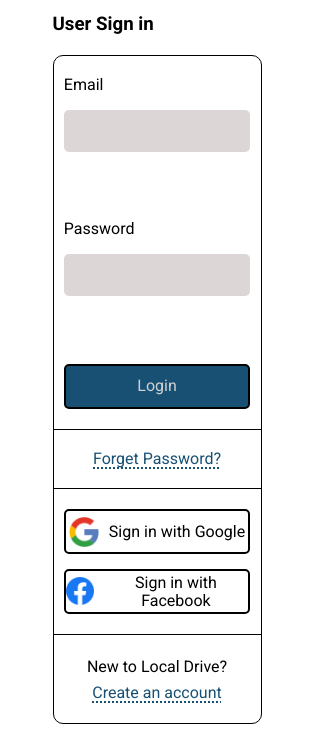
Login component › should render an error messages if email not confirmed error occurs after submission
Step 1. Type "email@email.com" into the field labelled "Email" → (157, 131), box [64,110,250,152]
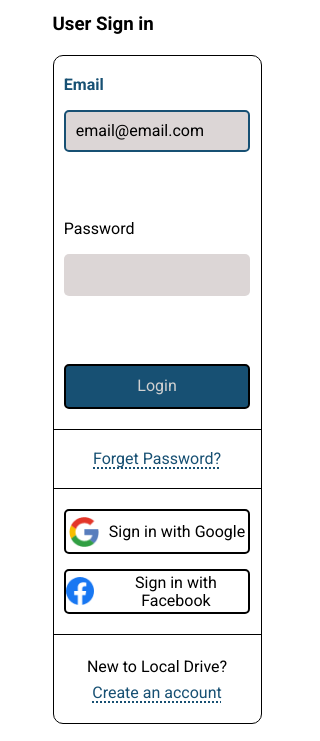
Step 2. Type "1!Qwerty" into the password field labelled "Password" → (157, 275), box [64,254,250,296]
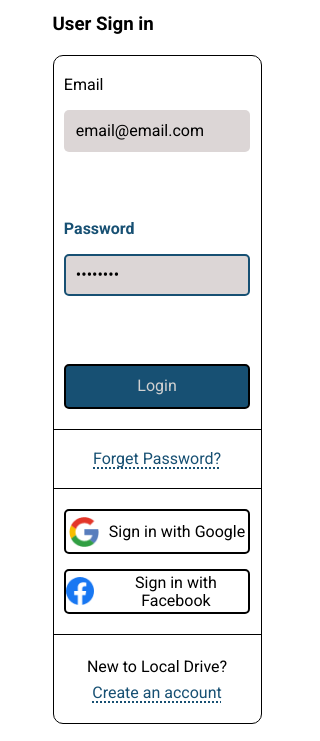
Step 3. Click the button "Login" → click(157, 386), box [64,364,250,409]
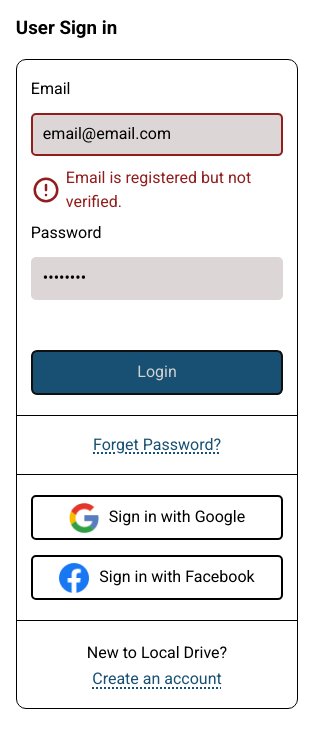
Expected: the text "Email is registered but not verified." is shown, [66,166,283,214]
